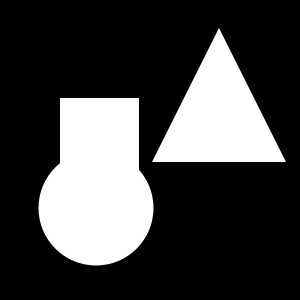circle: (60, 98, 139, 177)
rectangle: (38, 150, 154, 266)
triangle: (152, 28, 286, 162)
